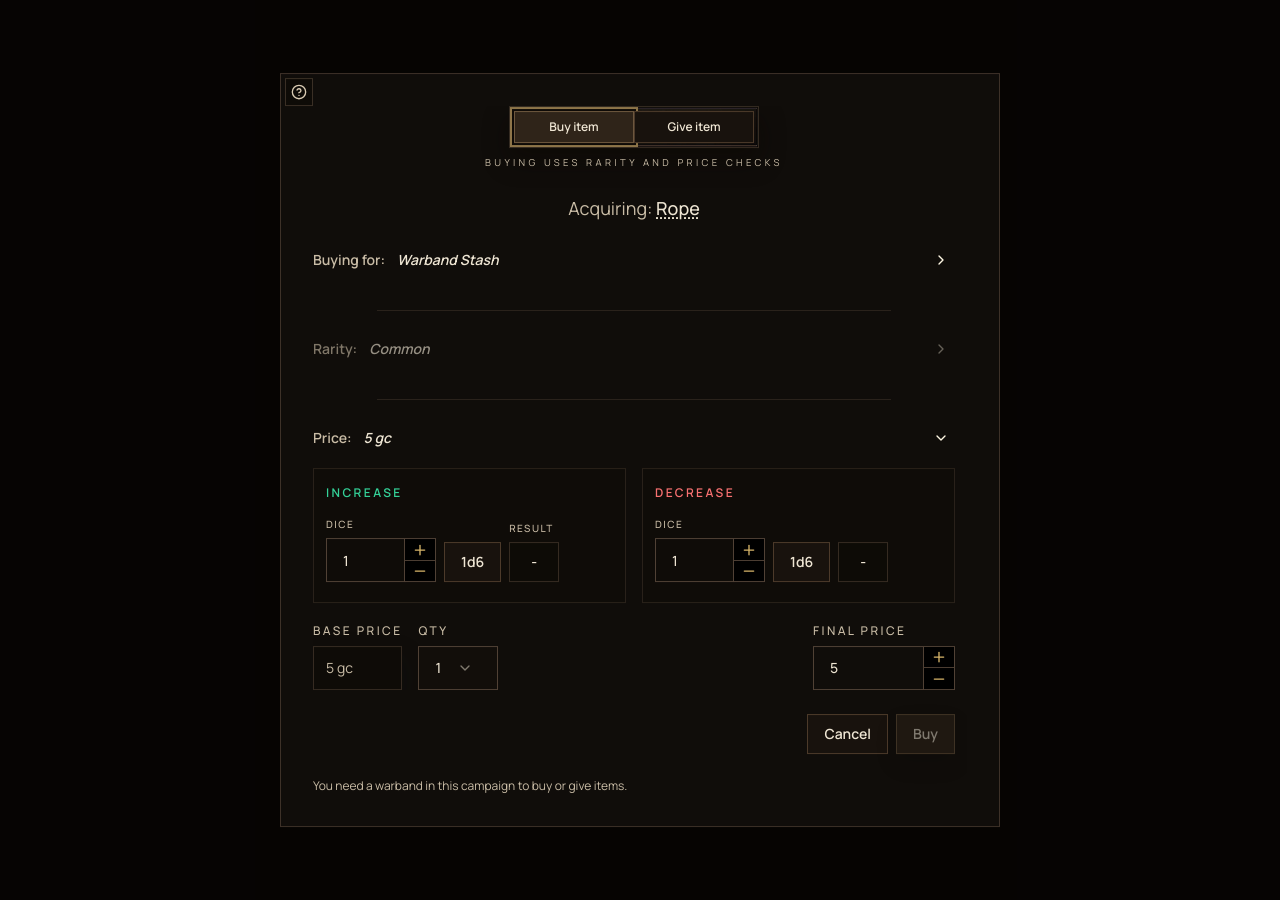
Test case: AcquireItemDialog: gold (decision 2) › says why Buy and Give are off when there's no warband at all, not only in a tooltip (BUG-107)
Expected: the text "You need a warband in this campaign to buy or give items." is shown, [313,777,627,794]
Expected: the button "Buy" is disabled, [896,714,955,754]
Click the button "Give item": x=694, y=127 [634,111,754,143]
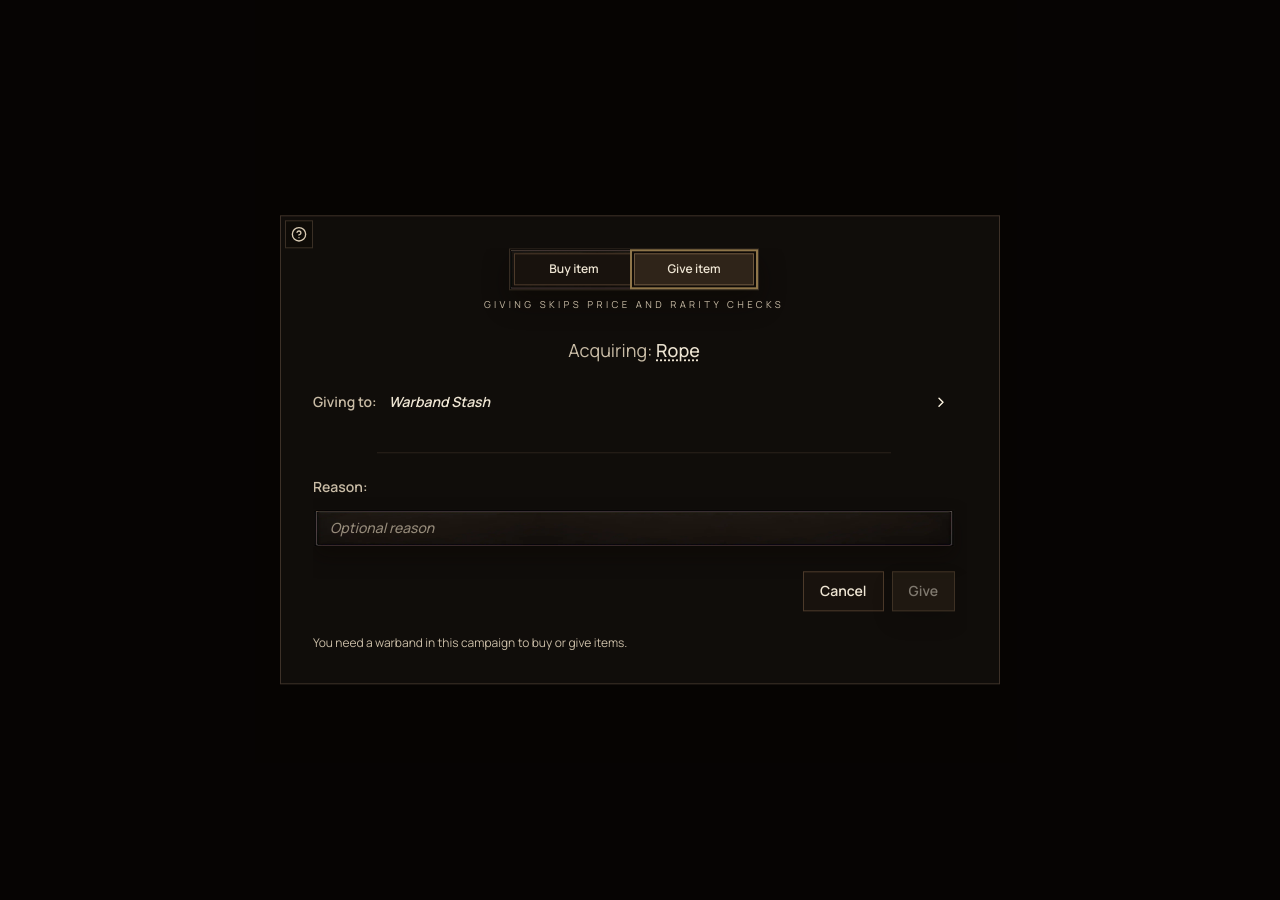
Expected: the button "Give" is disabled, [892,572,955,612]
Expected: the button "Give" is shown, [892,572,955,612]
